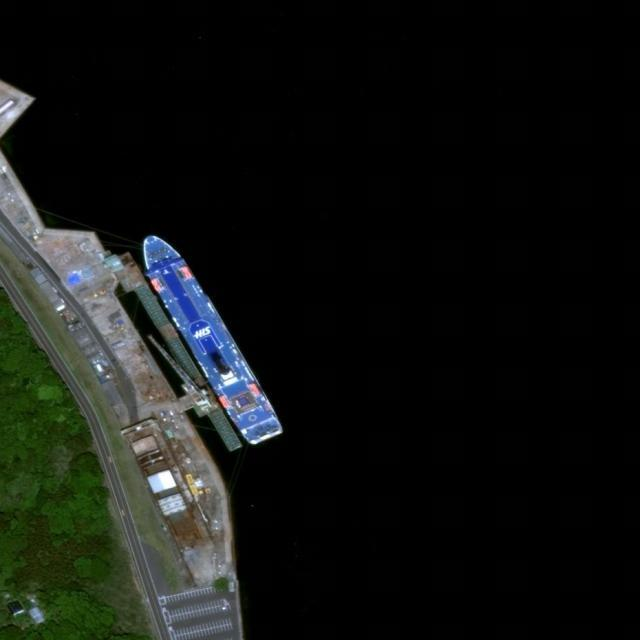Cargo: (127, 224, 289, 454)
Dock: (110, 253, 241, 458)
